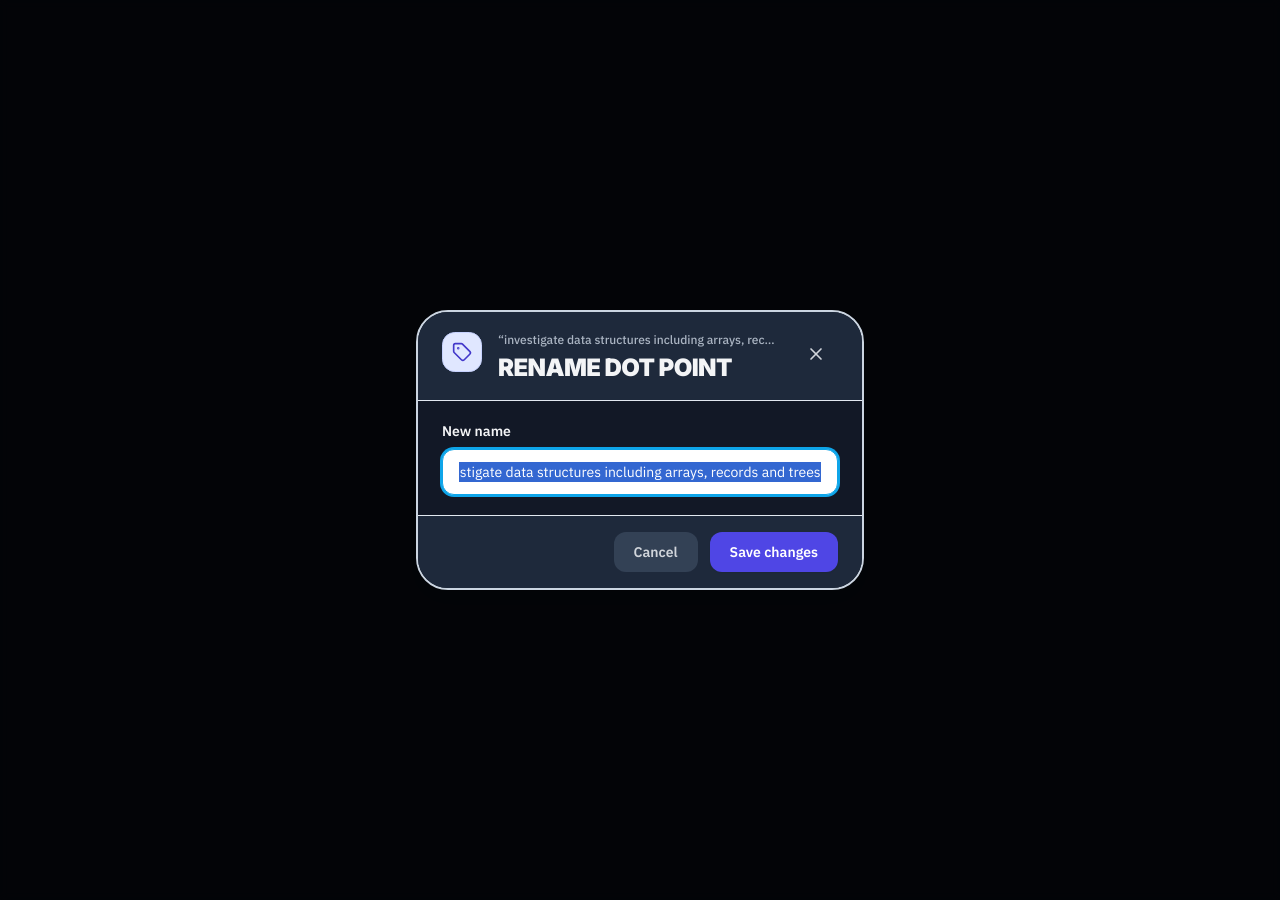
Test: rename guards a dot point’s focus areas › warns, and shows before and after, when the rename would change them
This screenshot has width=1280, height=900.
Replace the text in the field labelled "New name" with "investigate data structures including arrays and hash tables" at (640, 472), box [442,449,838,495]
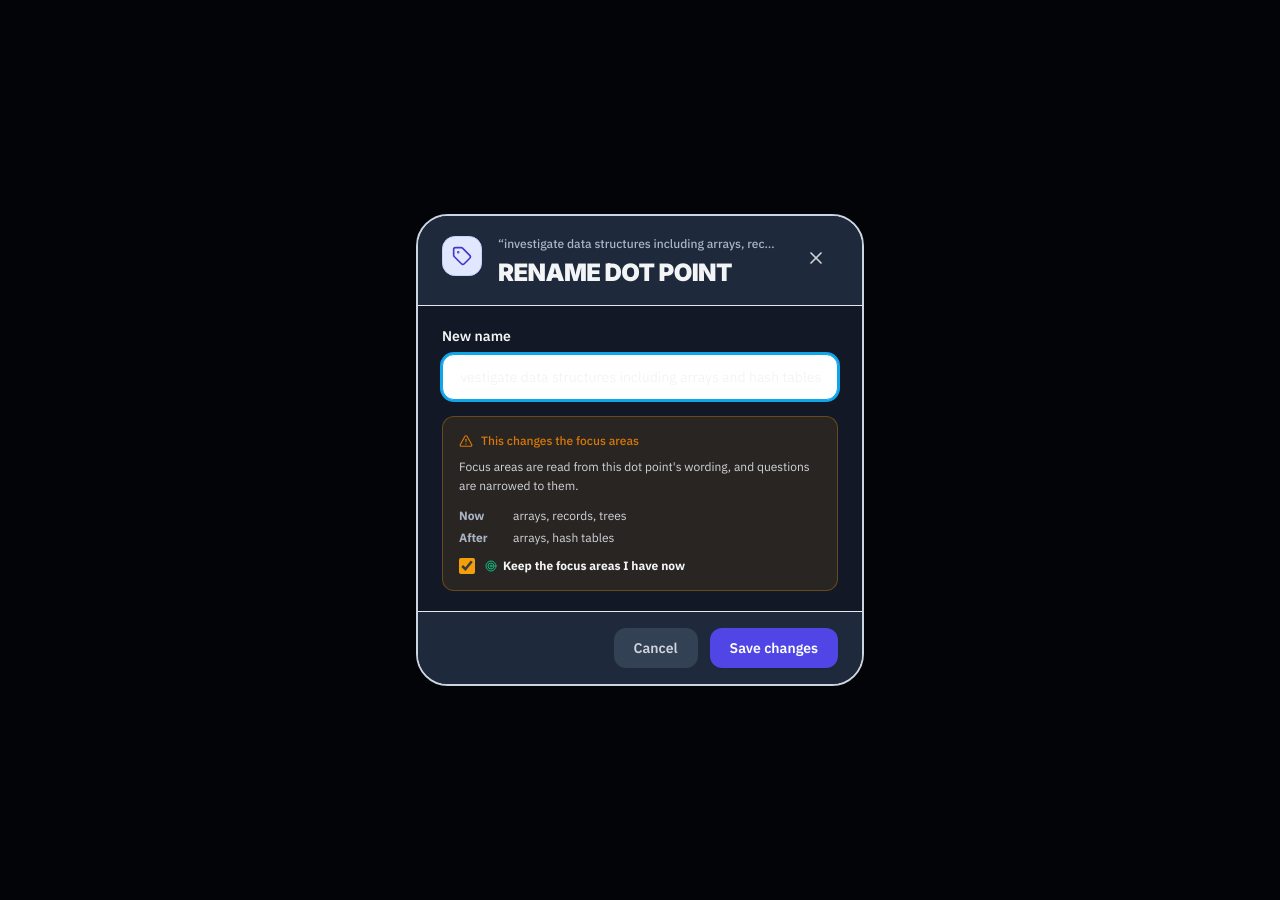
Now the text "This changes the focus areas" is shown, box [459,432,639,448]
Now the text "arrays, hash tables" is shown, box [513,530,614,546]
